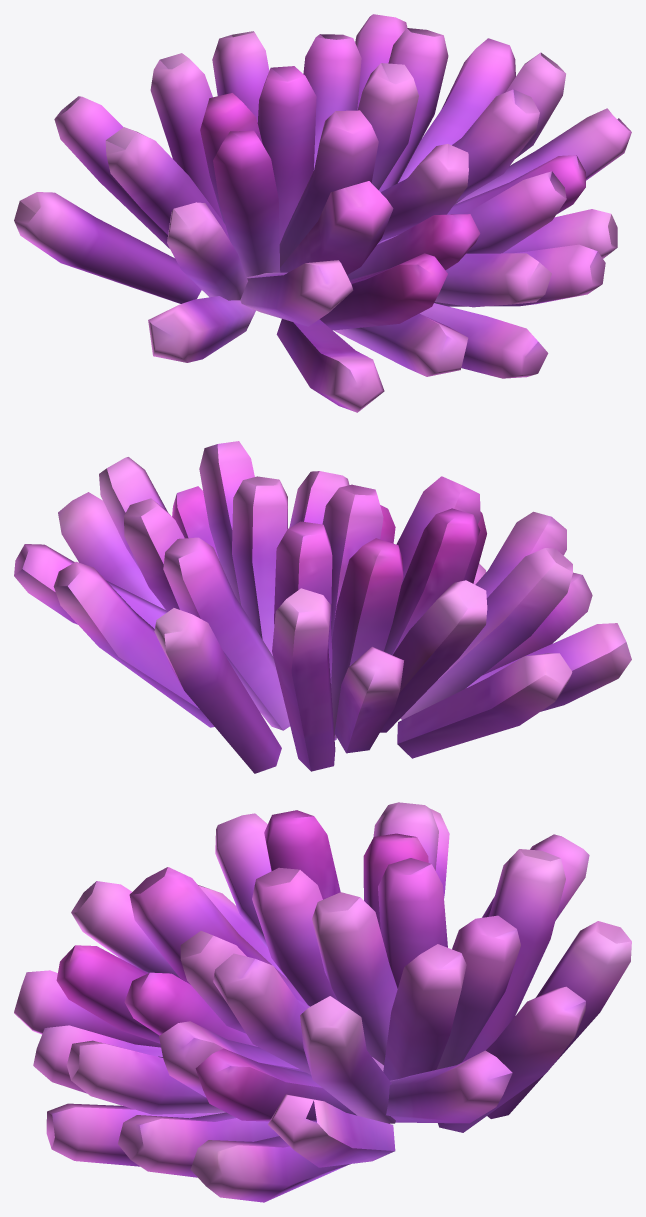
The model's file is coral.glb.
3 views of the same model, one above another, from view 1: azimuth 30°, elevation 25°; view 2: azimuth 150°, elevation 25°; view 3: azimuth 270°, elevation 25° (orthographic). The views are drawn at different scales.
Visible parts, largest first — view 1: node_id63; view 2: node_id63; view 3: node_id63.
Boxes of the visible parts, <box> form: node_id63: <box>14,14,631,412</box>; node_id63: <box>14,441,631,773</box>; node_id63: <box>14,802,631,1202</box>.
Size of the model in its own units: 6.32 by 2.54 by 5.39.
1 material, 1 textured.
